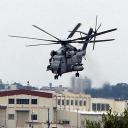helicopter: (8, 18, 118, 81)
